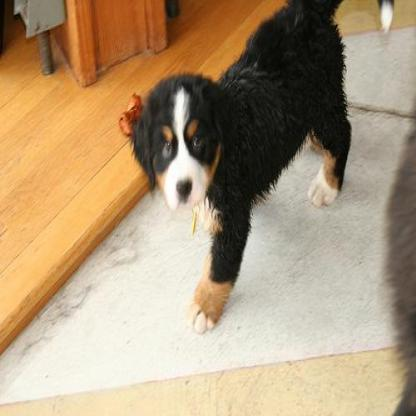Bernese_mountain_dog: (119, 0, 351, 335)
